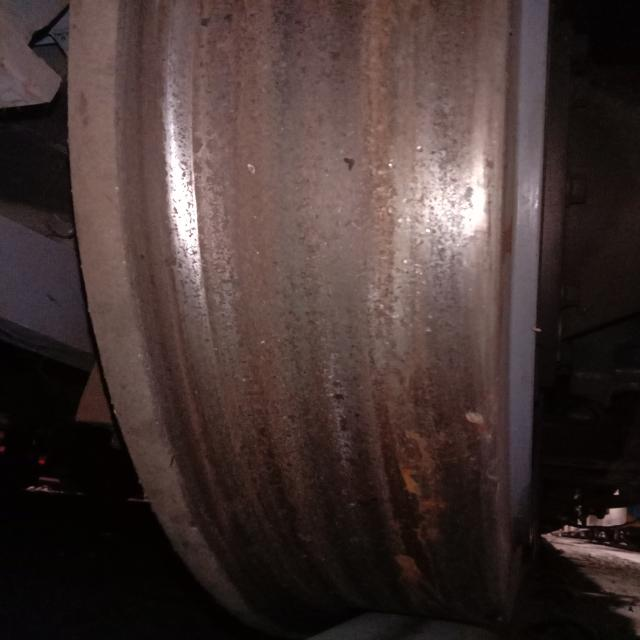flat: (258, 120, 388, 487)
